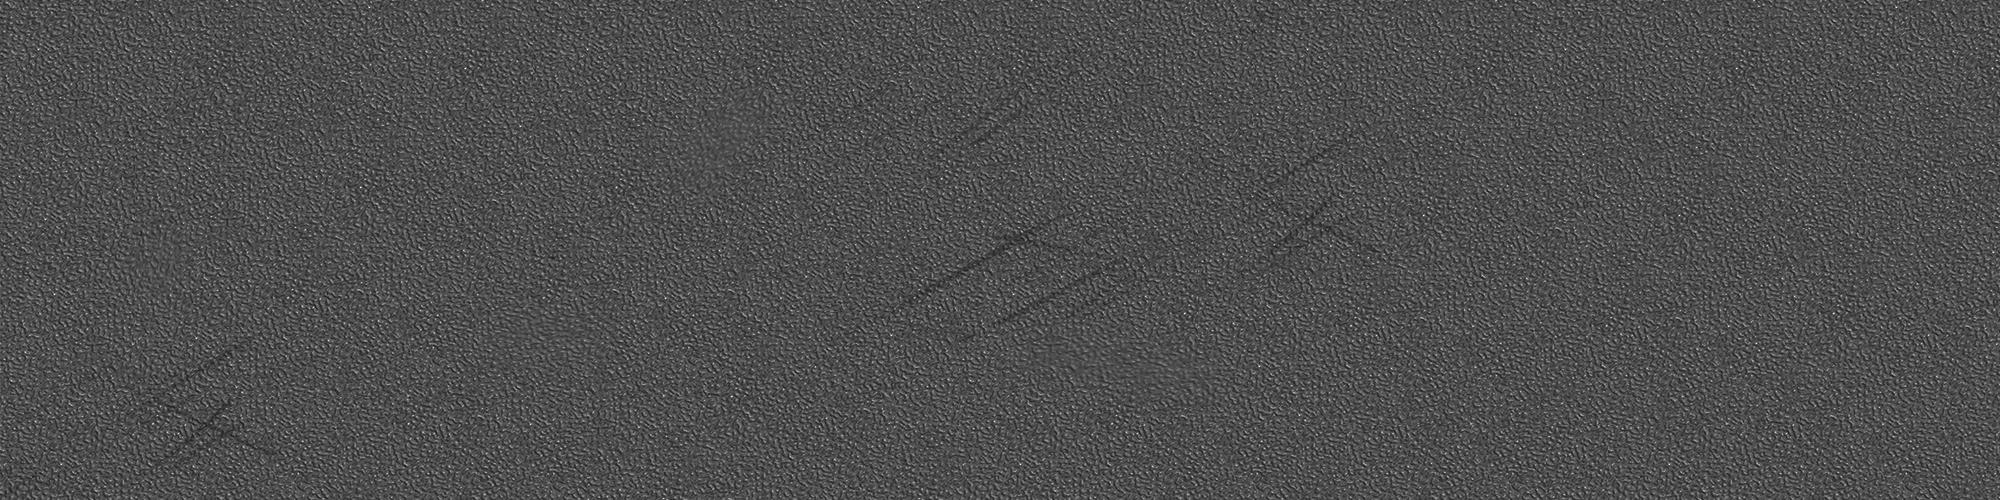Scratches: (886, 119, 1389, 344), (5, 323, 290, 499), (818, 57, 1083, 180)
